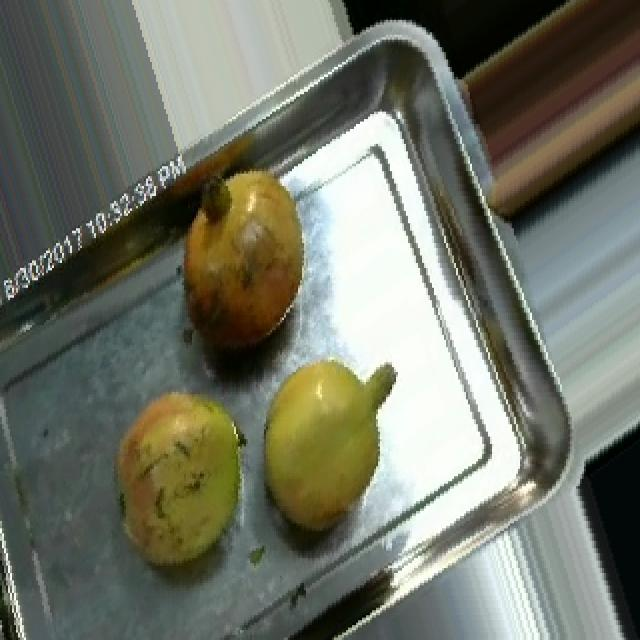fruit: (150, 144, 334, 372), (96, 365, 272, 593), (242, 332, 418, 560)
